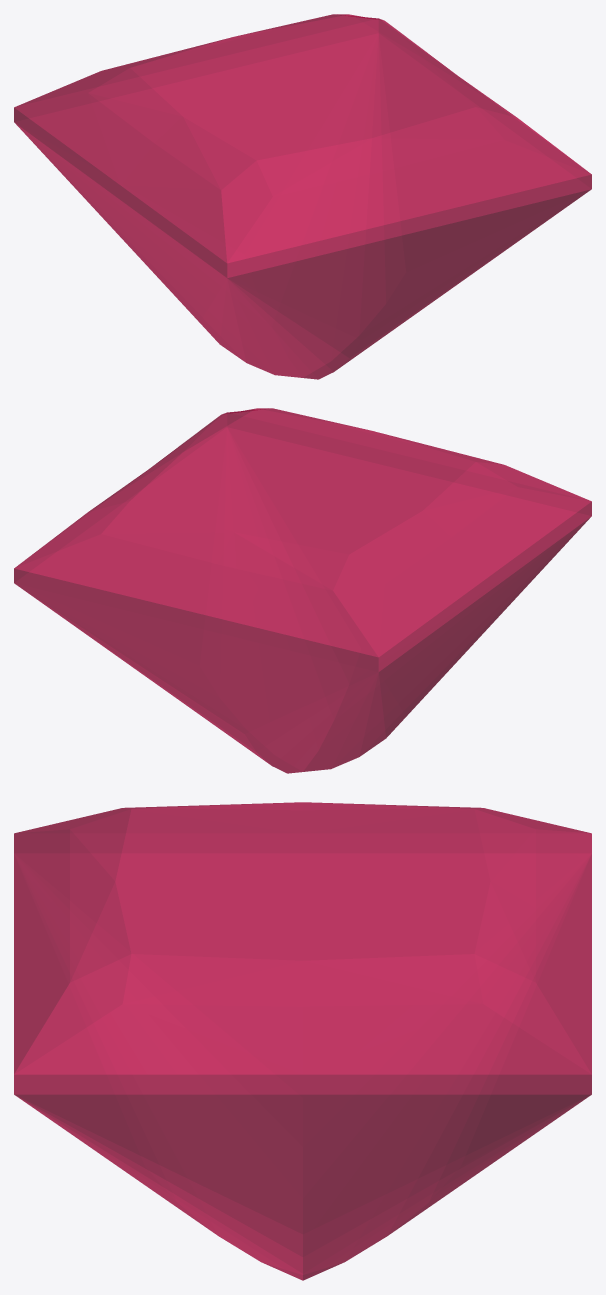
The model's file is princess spinell.glb.
3 views of the same model, one above another, from view 1: azimuth 30°, elevation 25°; view 2: azimuth 150°, elevation 25°; view 3: azimuth 270°, elevation 25° (orthographic). The views are drawn at different scales.
Visible parts, largest first — view 1: Princess; view 2: Princess; view 3: Princess.
Boxes of the visible parts, left/top/right/bottom form: Princess: left=14, top=14, right=591, bottom=379; Princess: left=14, top=408, right=591, bottom=773; Princess: left=14, top=802, right=591, bottom=1280.
Size of the model in its own units: 1.38 by 1.05 by 1.4.
